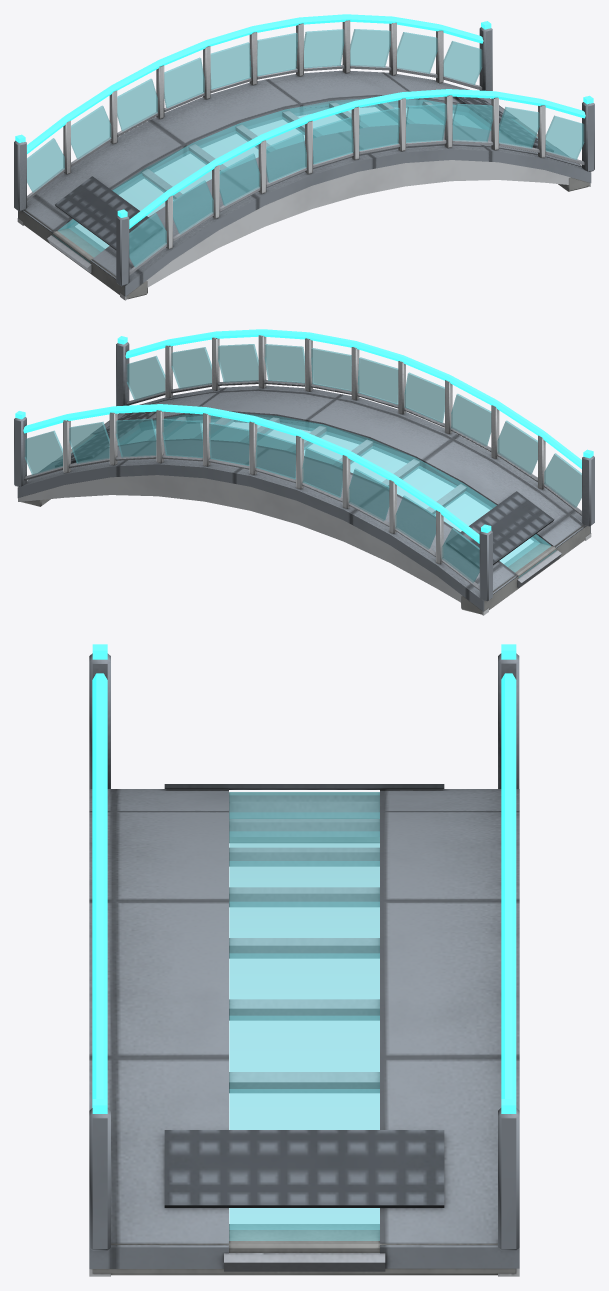
Rendered from puente_peatonal.fbx.
3 renders of one model, top to bottom at view 1: azimuth 30°, elevation 25°; view 2: azimuth 150°, elevation 25°; view 3: azimuth 270°, elevation 25°, orthographic. The views are drawn at different scales.
Visible parts, largest first — view 1: puente_peatonal, puente_peatonal_cristal, puente_peatonal_neon; view 2: puente_peatonal, puente_peatonal_cristal, puente_peatonal_neon; view 3: puente_peatonal, puente_peatonal_cristal, puente_peatonal_neon.
Part boxes in pixels (x1,y1,x2,y2): puente_peatonal: (14, 20, 594, 300); puente_peatonal_cristal: (27, 29, 584, 267); puente_peatonal_neon: (15, 14, 593, 228); puente_peatonal: (14, 335, 594, 615); puente_peatonal_cristal: (24, 344, 581, 582); puente_peatonal_neon: (15, 329, 593, 543); puente_peatonal: (89, 653, 519, 1276); puente_peatonal_cristal: (229, 792, 379, 1240); puente_peatonal_neon: (92, 644, 516, 1113).
Size of the model in its own units: 10.2 by 2.88 by 4.
Materials: 3 (3 with a texture image).
